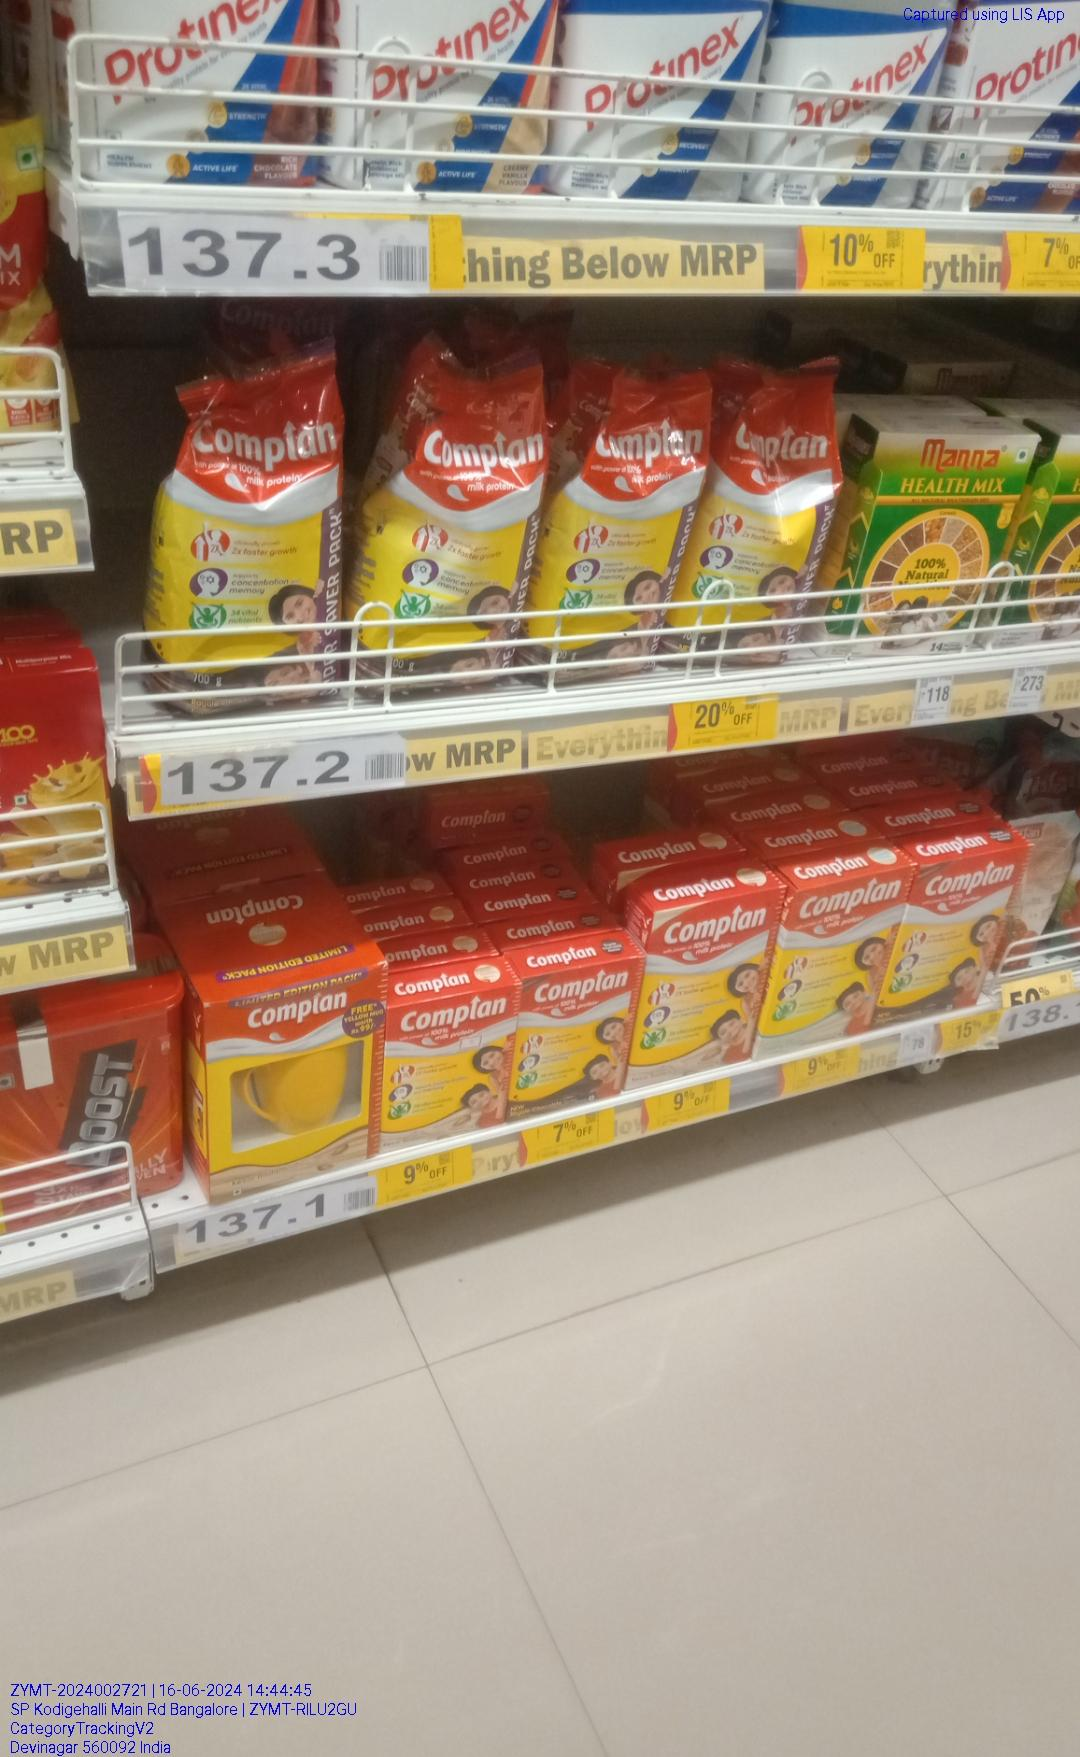COMPLAN_RC_POUCH_700_GMS_12: (172, 378, 352, 737), (369, 341, 518, 700), (536, 368, 677, 681), (685, 366, 828, 666)
